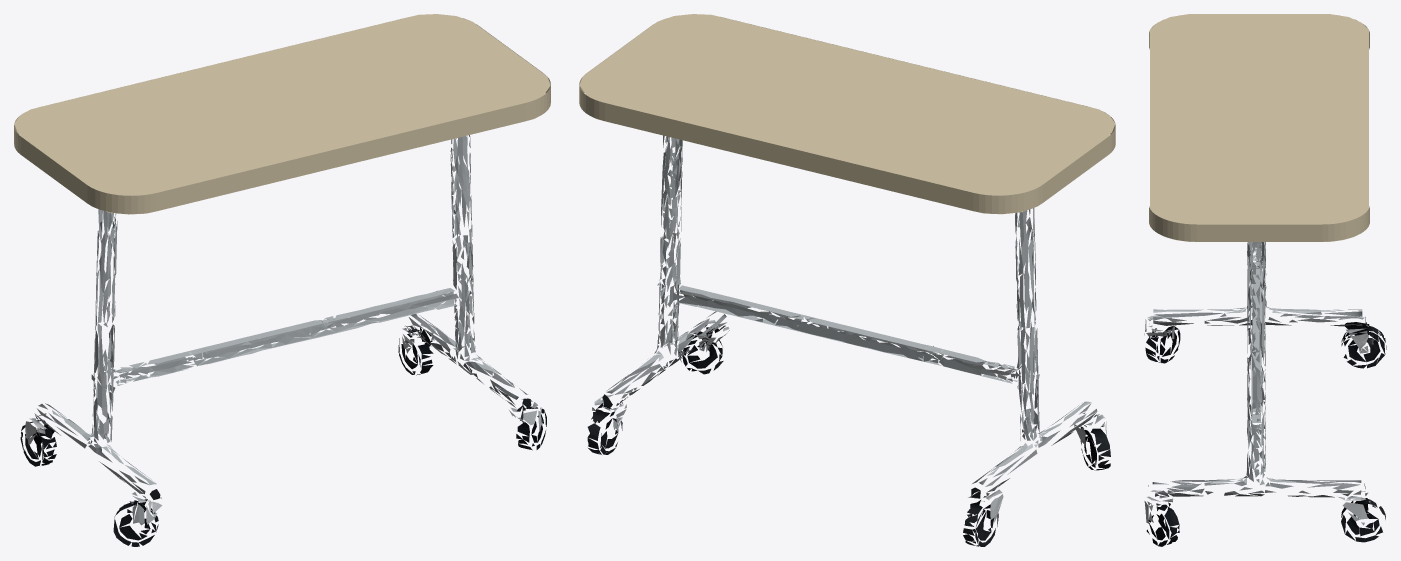
File: lod2_source.glb
3 views of the same model, side by side, from view 1: azimuth 30°, elevation 25°; view 2: azimuth 150°, elevation 25°; view 3: azimuth 270°, elevation 25° (orthographic). The views are drawn at different scales.
Parts seen in each view (by area): view 1: Rounded flat tabletop, geometry_0; view 2: Rounded flat tabletop, geometry_0; view 3: Rounded flat tabletop, geometry_0.
Part boxes in pixels (x1,y1,x2,y2): Rounded flat tabletop: (14,14,550,214); geometry_0: (20,135,546,546); Rounded flat tabletop: (579,14,1115,214); geometry_0: (587,135,1110,546); Rounded flat tabletop: (1149,14,1369,241); geometry_0: (1144,242,1386,546).
Bounding box in the file's own units: 1.35 × 0.9998 × 0.657.
3 materials, 1 textured.
